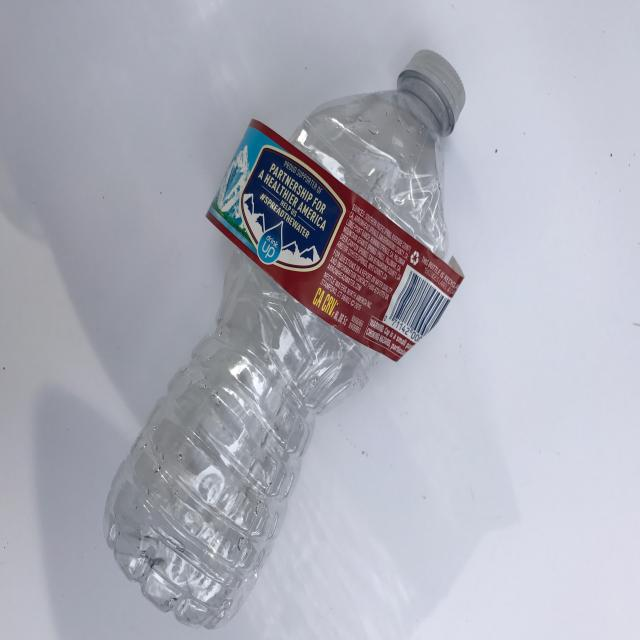plastic: (102, 48, 466, 630)
